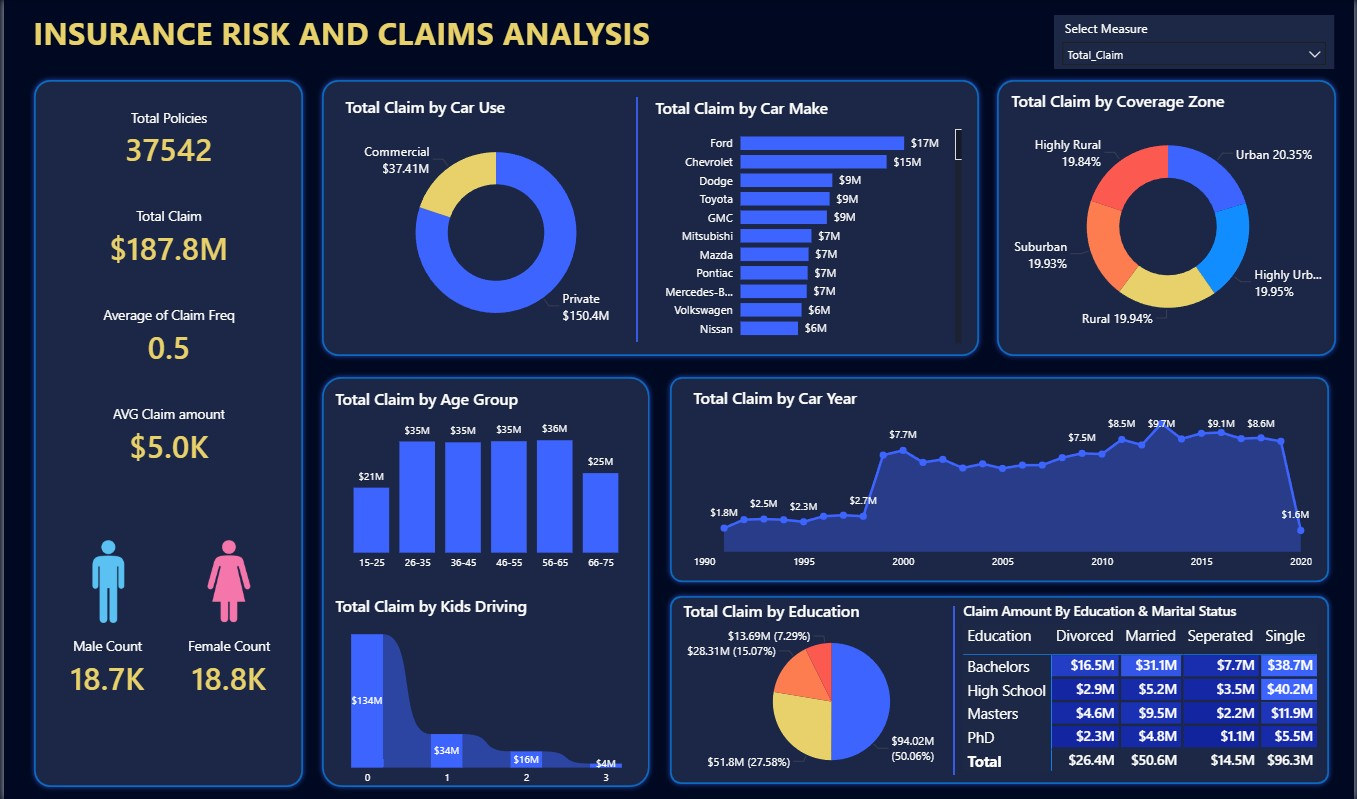

What the dashboard file says about the page in this screenshot:
{"tool":"powerbi","page":{"name":"Page 1","canvas":[1600,950],"ordinal":0},"visuals":[{"type":"textbox","box":[29.6,9.5,770,62.8],"z":0},{"type":"shape","box":[29.6,90,330.5,849.3],"z":1000},{"type":"cardVisual","fields":{"Data":["insurance_data_car.Total_Policies","insurance_data_car.Total_Claim","Avg(insurance_data_car.Claim Freq)","insurance_data_car.AVG Claim amount"]},"box":[60.4,111.3,270.1,459.6],"z":2000},{"type":"cardVisual","fields":{"Data":["insurance_data_car.Male Count","insurance_data_car.Female Count"]},"box":[55.7,736.8,279.6,110.2],"z":3000},{"type":"slicer","fields":{"Values":["Select Measure.Select Measure"]},"box":[1243.8,19,331.7,64],"z":4000},{"type":"shape","box":[370.8,90,790.1,338.8],"z":5000},{"type":"donutChart","title":"Total Claim by Car Use","fields":{"Y":["insurance_data_car.Total_Claim"],"Category":["insurance_data_car.Car Use"]},"box":[399.2,115.1,367.2,298.5],"z":6000},{"type":"clusteredBarChart","title":"Total Claim by Car Make","fields":{"Y":["insurance_data_car.Total_Claim"],"Category":["insurance_data_car.Car Make"]},"box":[766.4,116.3,373.1,297.3],"z":7000},{"type":"shape","box":[1170.3,90,413.4,338.8],"z":8000},{"type":"donutChart","title":"Total Claim by  Coverage Zone","fields":{"Y":["insurance_data_car.Total_Claim"],"Category":["insurance_data_car.Coverage Zone"]},"box":[1188.1,107.8,381.4,298.5],"z":9000},{"type":"shape","box":[370.8,441.8,400,497.5],"z":10000},{"type":"clusteredColumnChart","title":"Total Claim by Age Group","fields":{"Y":["insurance_data_car.Total_Claim"],"Category":["insurance_data_car.Age Group"]},"box":[387.3,460.8,368.4,225.1],"z":11000},{"type":"ribbonChart","title":"Total Claim by Kids Driving","fields":{"Y":["insurance_data_car.Total_Claim"],"Category":["insurance_data_car.Kids Driving"]},"box":[387.3,706,368.4,234.5],"z":12000},{"type":"shape","box":[783,441.8,792.5,255],"z":13000},{"type":"areaChart","title":"Total Claim by Car Year","fields":{"Y":["insurance_data_car.Total_Claim"],"Category":["insurance_data_car.Car Year"]},"box":[811.4,459.6,742.7,225.1],"z":14000},{"type":"shape","box":[783,701.2,792.5,234.5],"z":15000},{"type":"pieChart","title":"Total Claim by Education","fields":{"Y":["insurance_data_car.Total_Claim"],"Category":["insurance_data_car.Education"]},"box":[799.6,711.9,361.3,215.6],"z":16000},{"type":"pivotTable","title":"Claim Amount By Education & Marital Status","fields":{"Rows":["insurance_data_car.Education"],"Columns":["insurance_data_car.Marital Status"],"Values":["insurance_data_car.Total_Claim"]},"box":[1131.2,714.3,433.5,207.3],"z":17000},{"type":"shape","box":[743.9,116.1,11.8,290.2],"z":18000},{"type":"shape","box":[1119.1,719.1,11.8,200],"z":20001},{"type":"image","box":[61.6,636.1,123.2,107.8],"z":20002},{"type":"image","box":[204.9,636.1,123.2,106.6],"z":20003}]}

Visuals, with their boxes in screenshot pixels (x1, y1, x2, y2), scaled from the page's 1600x950 canvas onto the 1357x799 screenshot:
textbox: select_region(25, 8, 678, 61)
shape: select_region(25, 76, 305, 790)
cardVisual - insurance_data_car.Total_Policies x insurance_data_car.Total_Claim: select_region(51, 94, 280, 480)
cardVisual - insurance_data_car.Male Count x insurance_data_car.Female Count: select_region(47, 620, 284, 712)
slicer - Select Measure.Select Measure: select_region(1055, 16, 1336, 70)
shape: select_region(314, 76, 985, 361)
"Total Claim by Car Use" donutChart: select_region(339, 97, 650, 348)
"Total Claim by Car Make" clusteredBarChart: select_region(650, 98, 966, 348)
shape: select_region(993, 76, 1343, 361)
"Total Claim by  Coverage Zone" donutChart: select_region(1008, 91, 1331, 342)
shape: select_region(314, 372, 654, 790)
"Total Claim by Age Group" clusteredColumnChart: select_region(328, 388, 641, 577)
"Total Claim by Kids Driving" ribbonChart: select_region(328, 594, 641, 791)
shape: select_region(664, 372, 1336, 586)
"Total Claim by Car Year" areaChart: select_region(688, 387, 1318, 576)
shape: select_region(664, 590, 1336, 787)
"Total Claim by Education" pieChart: select_region(678, 599, 985, 780)
"Claim Amount By Education & Marital Status" pivotTable: select_region(959, 601, 1327, 775)
shape: select_region(631, 98, 641, 342)
shape: select_region(949, 605, 959, 773)
image: select_region(52, 535, 157, 626)
image: select_region(174, 535, 278, 625)
